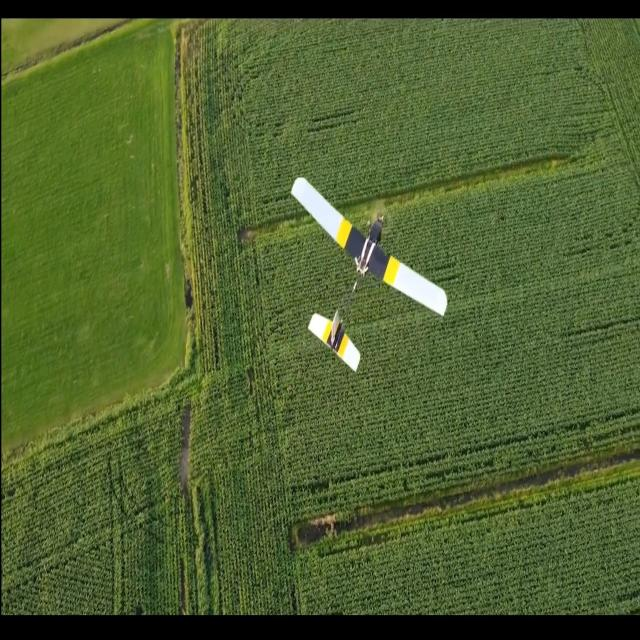iha: (289, 169, 450, 376)
